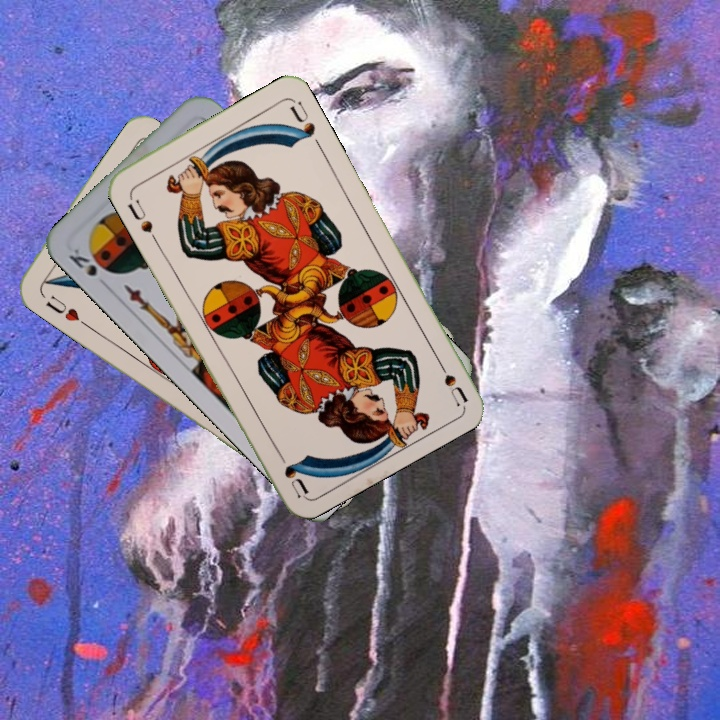HU: (42, 291, 82, 324)
SK: (64, 244, 100, 279)
SU: (431, 351, 469, 407), (123, 190, 160, 244)
